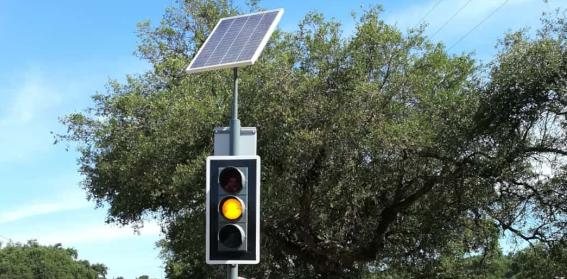yellow_light: (206, 155, 260, 263)
